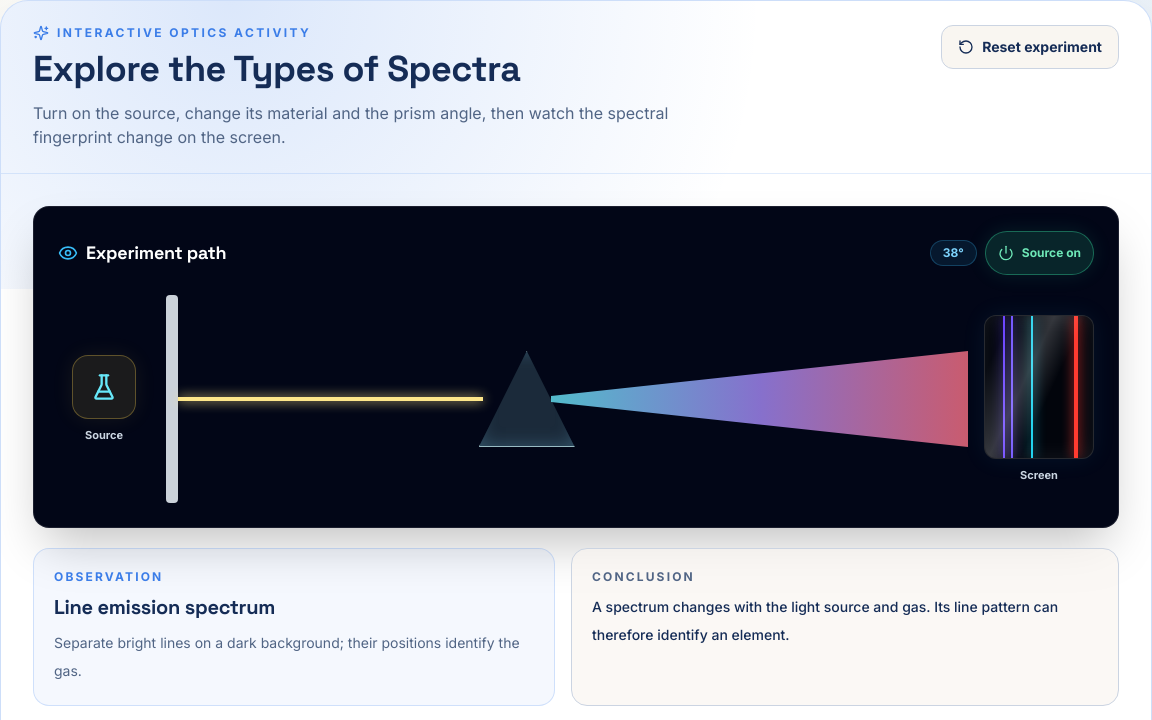
Test case: SpectrumTypesActivity › turns the source off and hides the spectrum
Check: the number of elements with test id "spectrum-line" is 4, box [1003,316,1005,458]; [1011,316,1013,458]; [1031,316,1033,458]; [1074,316,1078,458]
Click the button with aria-label "Turn source off" at coordinates (1039, 253), box [985,231,1094,275]
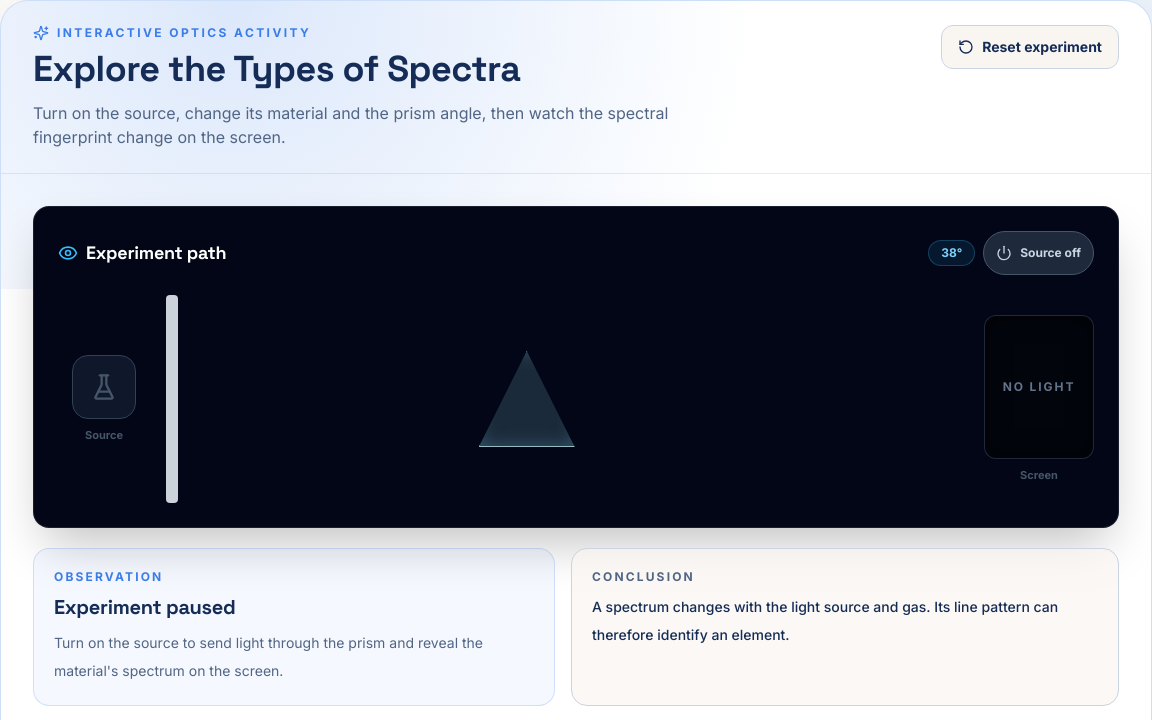
Check: the text "No light" is shown, box [1003,379,1075,394]
Check: no elements with test id "spectrum-line" are shown
Check: the heading "Experiment paused" is shown, box [54,594,235,620]
